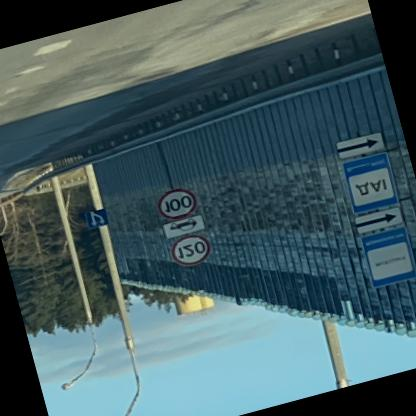speedlimit: (166, 233, 210, 271), (152, 187, 197, 224)
